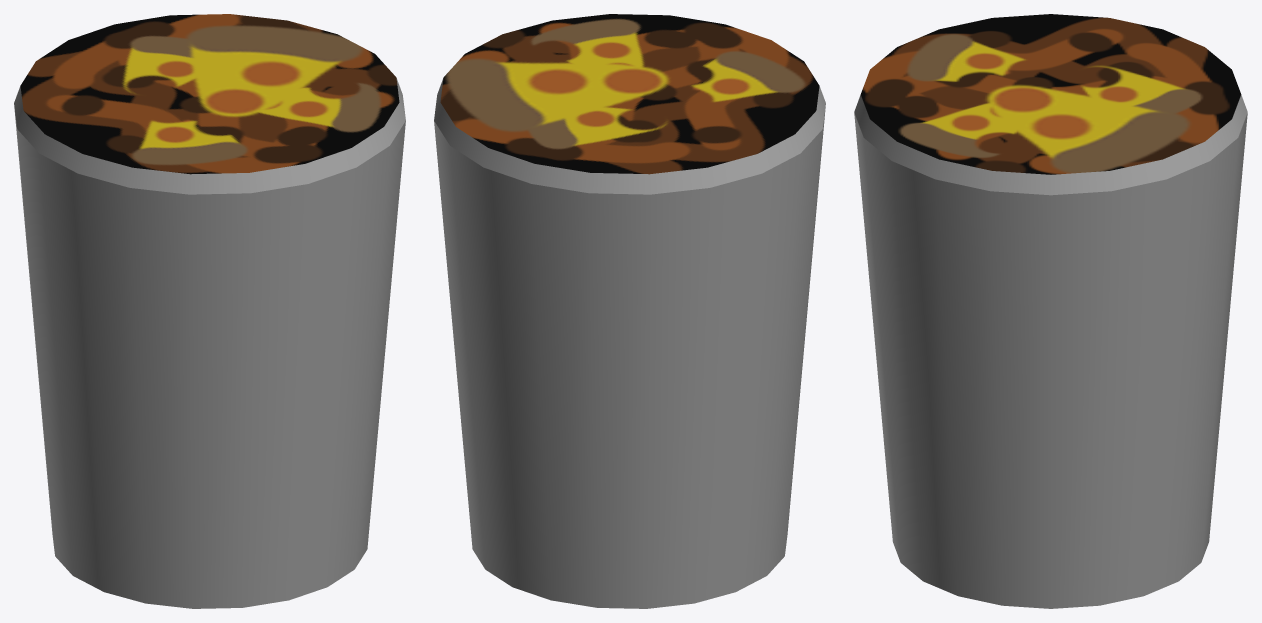
Rendered from Rubbish_Bin.fbx.
3 renders of one model, left to right at view 1: azimuth 30°, elevation 25°; view 2: azimuth 150°, elevation 25°; view 3: azimuth 270°, elevation 25°, orthographic.
Visible parts, largest first — view 1: polySurface86; view 2: polySurface86; view 3: polySurface86.
Part boxes in pixels (x1,y1,x2,y2): polySurface86: (14, 14, 405, 608); polySurface86: (434, 14, 825, 608); polySurface86: (854, 14, 1247, 608).
Size of the model in its own units: 3.9 by 4.9 by 3.9.
